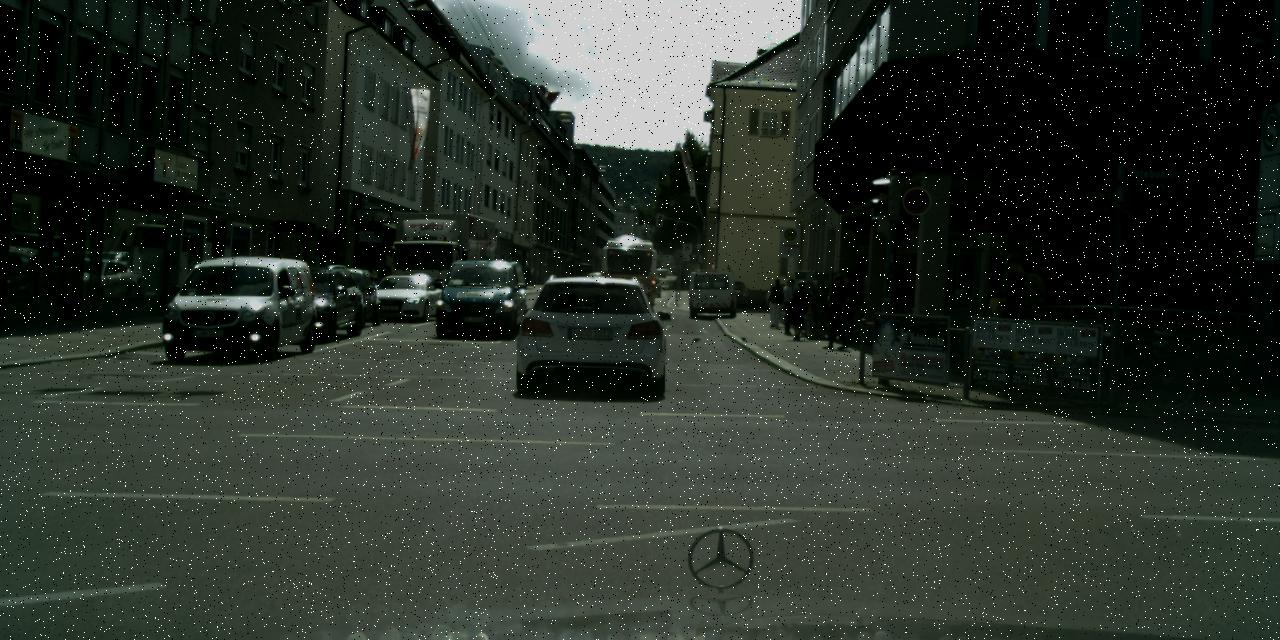ped: (984, 252, 1038, 384), (821, 274, 852, 348), (832, 272, 862, 346), (786, 279, 812, 340), (777, 278, 800, 335), (765, 276, 786, 328), (521, 264, 530, 288)
